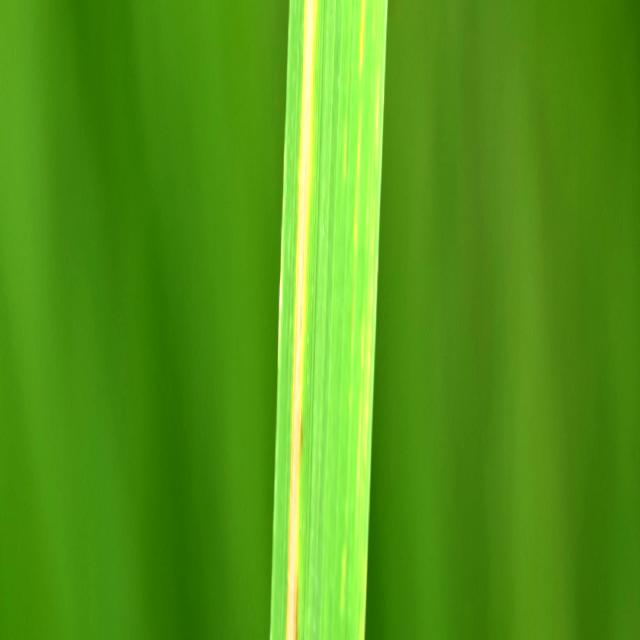BLB: (286, 0, 315, 638)
